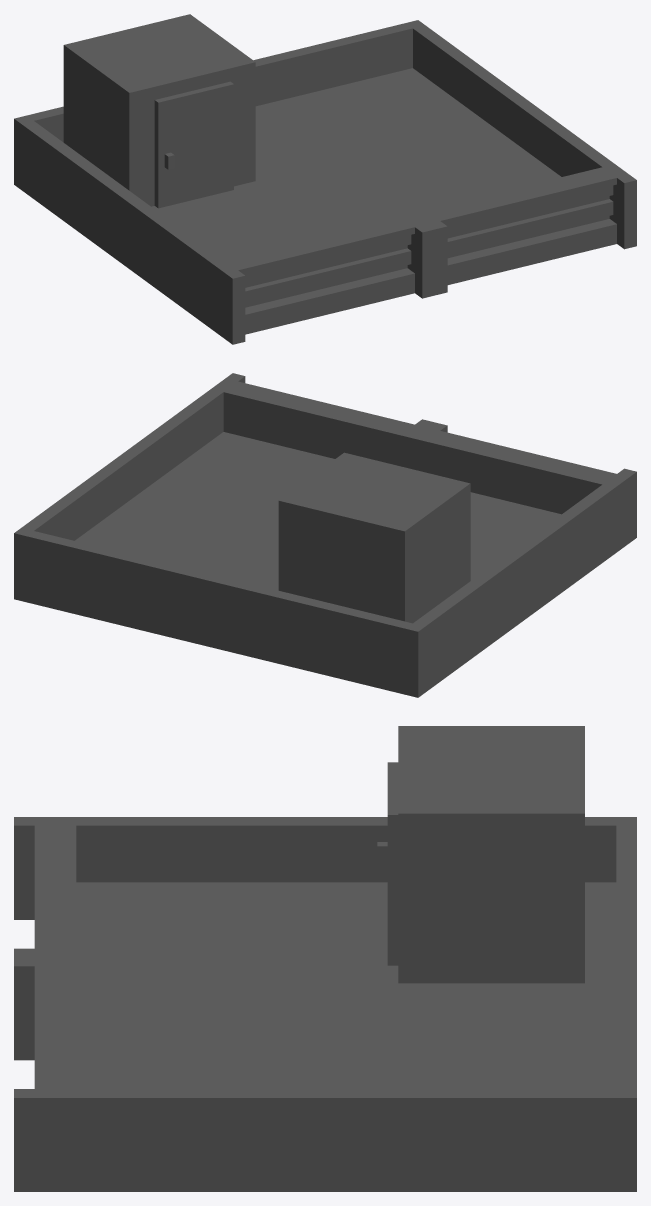
Rendered from bld_story04.obj.
The picture shows the model from 3 angles, top to bottom: view 1: azimuth 30°, elevation 25°; view 2: azimuth 150°, elevation 25°; view 3: azimuth 270°, elevation 25°; orthographic projection. The views are drawn at different scales.
Bounding box in the file's own units: 64 × 22 × 60.
